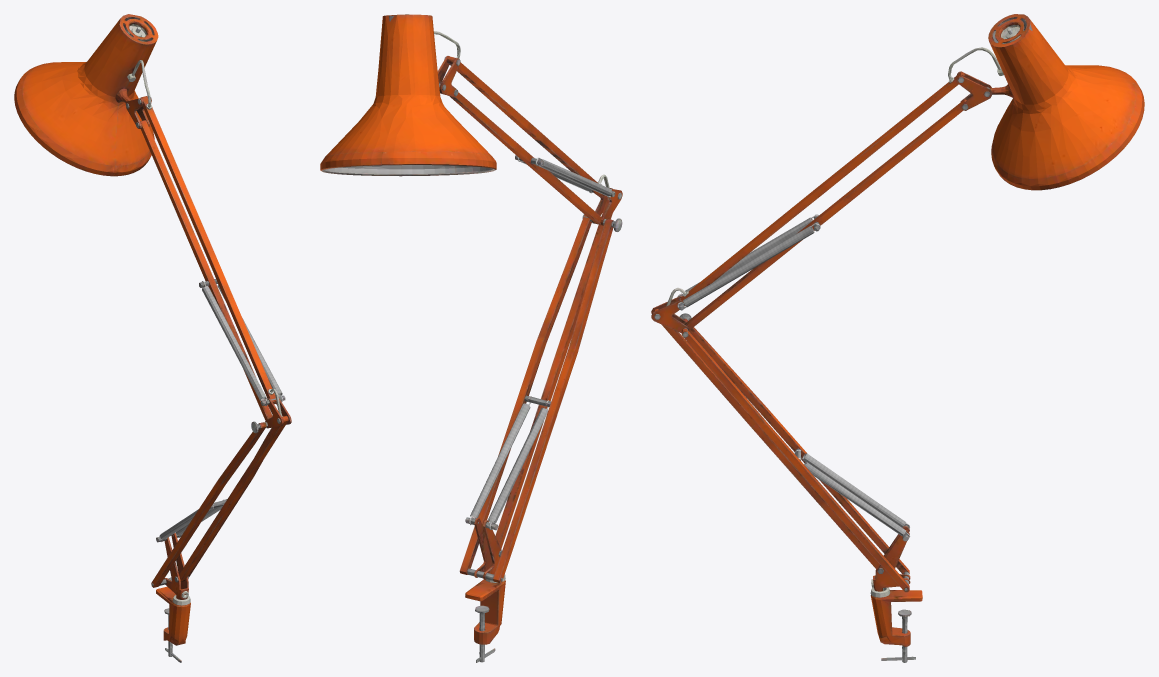
The model's file is desk_lamp_arm_01.glb.
The picture shows the model from 3 angles, left to right: view 1: azimuth 30°, elevation 25°; view 2: azimuth 150°, elevation 25°; view 3: azimuth 270°, elevation 25°; orthographic projection. The views are drawn at different scales.
Parts seen in each view (by area): view 1: desk_lamp_arm_01; view 2: desk_lamp_arm_01; view 3: desk_lamp_arm_01.
Boxes of the visible parts, x1,y1,x2,y2 form: desk_lamp_arm_01: (14, 14, 291, 662); desk_lamp_arm_01: (320, 14, 622, 662); desk_lamp_arm_01: (651, 14, 1144, 662).
Bounding box in the file's own units: 0.2017 × 0.8926 × 0.6139.
Materials: 2 (2 with a texture image).
